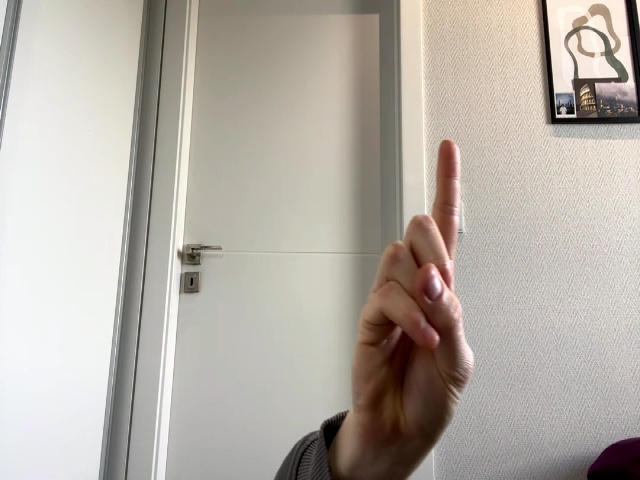Z: (350, 140, 474, 429)
